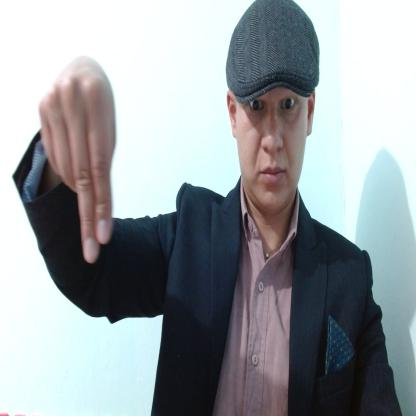N: (39, 57, 116, 265)
